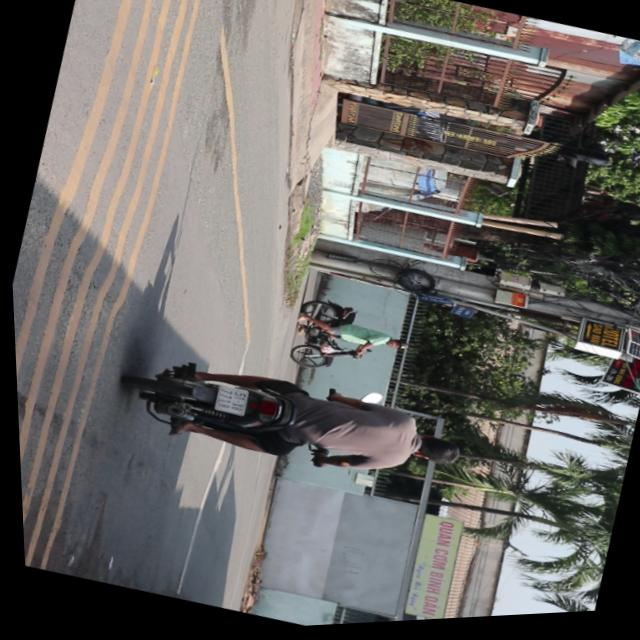licenseplate: (112, 329, 471, 517)
motorcyclist: (404, 433, 460, 474)
nohelmet: (209, 385, 245, 419)
